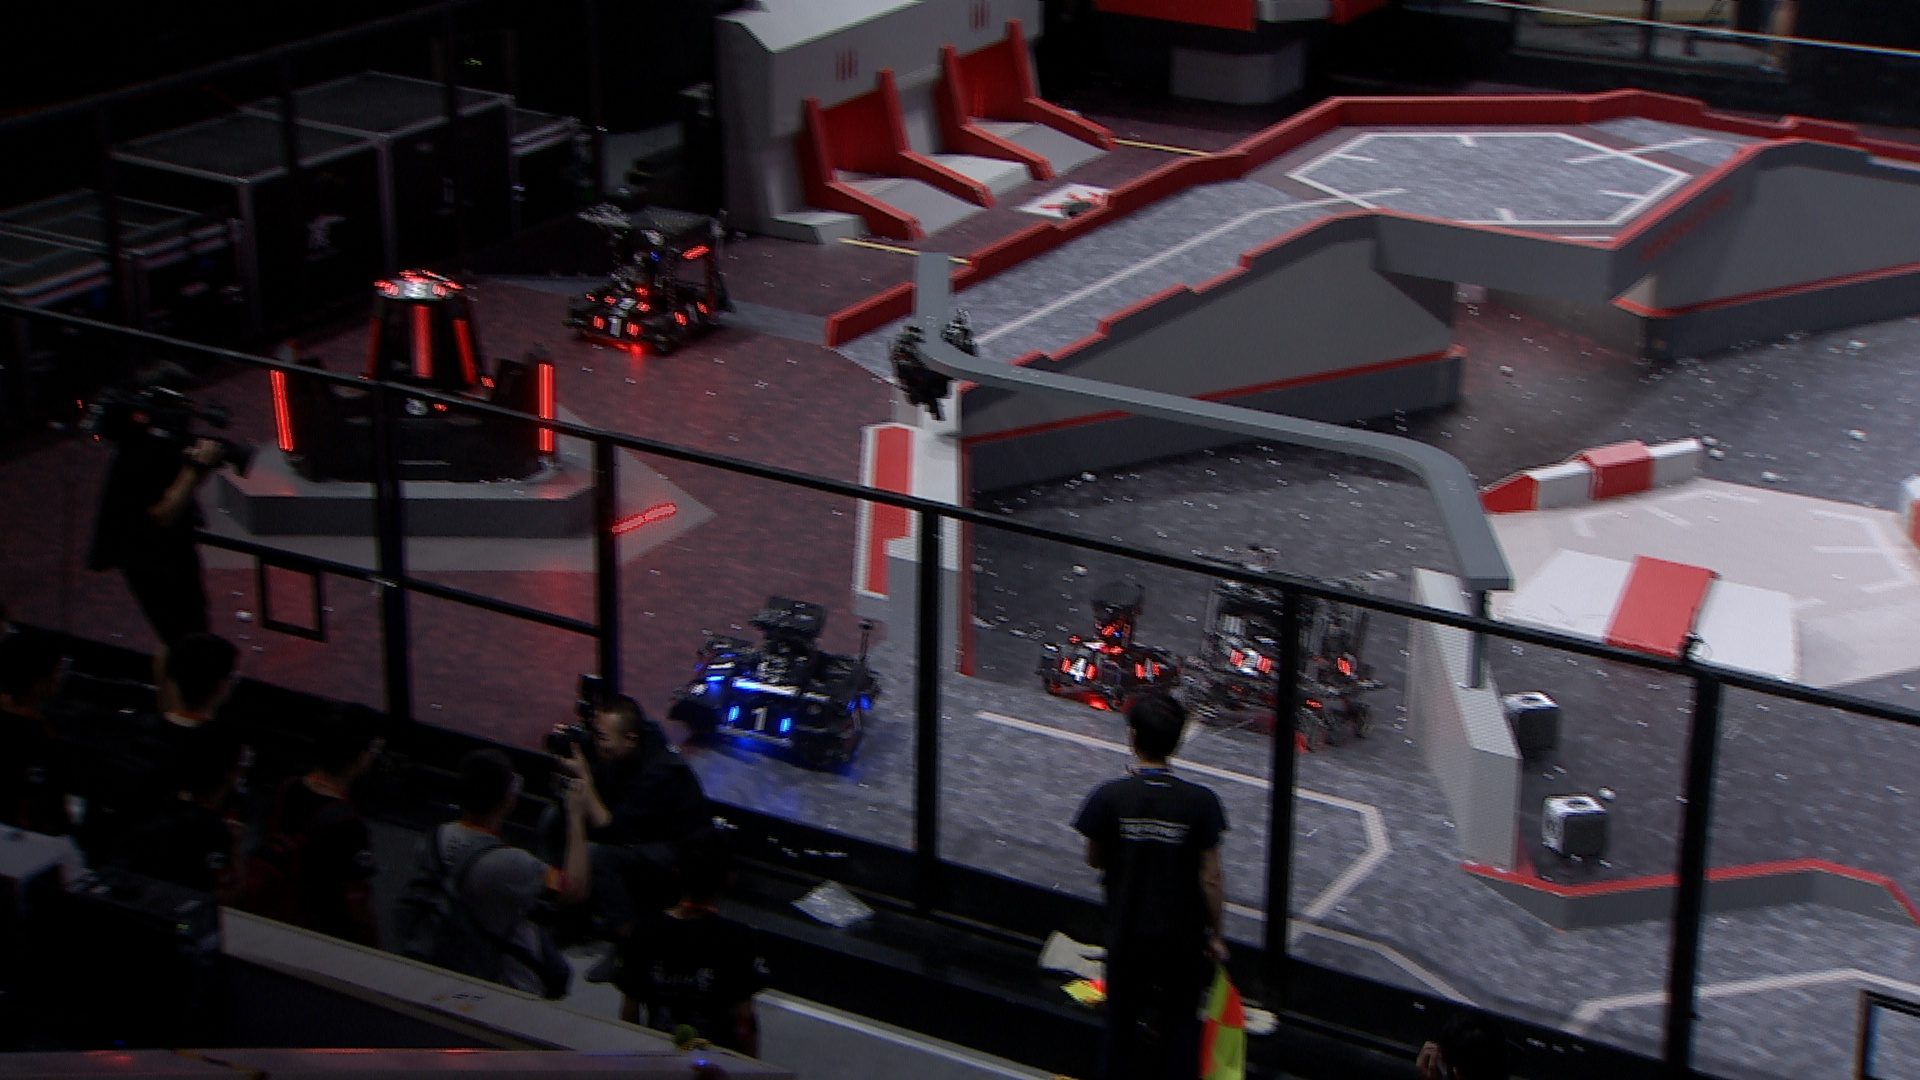armor: (723, 702, 794, 738), (268, 371, 295, 455), (409, 305, 436, 382), (537, 361, 558, 456), (452, 320, 479, 389), (394, 392, 448, 422), (361, 319, 384, 384), (1065, 633, 1120, 659), (381, 278, 444, 299), (1232, 647, 1273, 676), (591, 315, 640, 339), (1058, 655, 1097, 684), (705, 651, 738, 683), (847, 698, 872, 737), (673, 301, 709, 324), (604, 295, 651, 314), (1335, 651, 1362, 680), (1134, 655, 1166, 680)
base: (262, 266, 568, 491)
car: (1179, 541, 1404, 749), (669, 591, 887, 771), (564, 186, 733, 357), (1036, 572, 1183, 712)
watcher: (887, 309, 982, 422)
